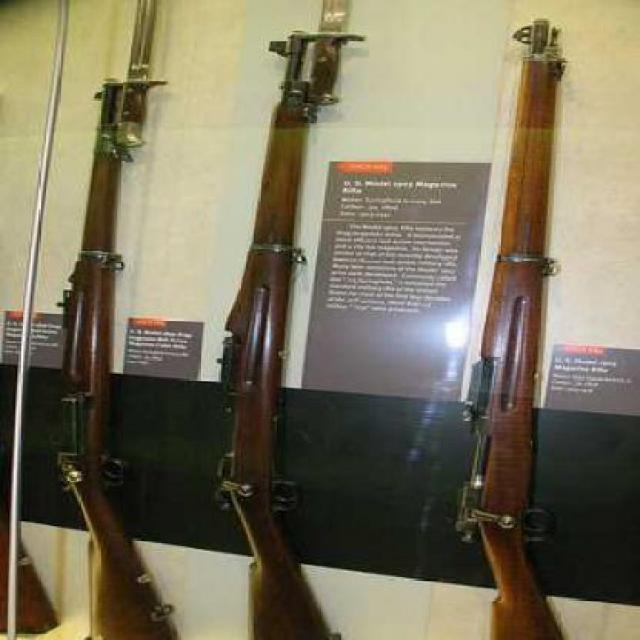weapon: (224, 1, 350, 638), (68, 1, 180, 640), (461, 18, 565, 634)
